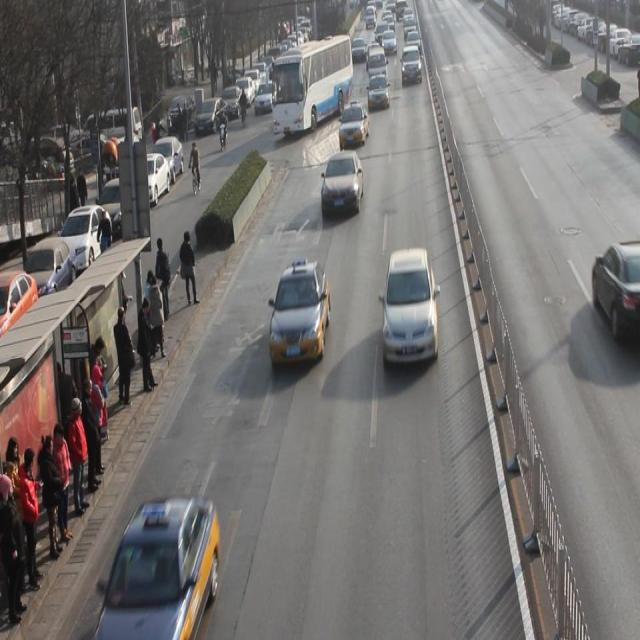car: (94, 500, 220, 640), (383, 248, 439, 366), (269, 262, 331, 367), (592, 240, 640, 344), (322, 151, 364, 218), (338, 105, 371, 147), (401, 47, 423, 88), (367, 75, 390, 111)
truck: (367, 48, 389, 89)
van: (272, 36, 354, 137)
